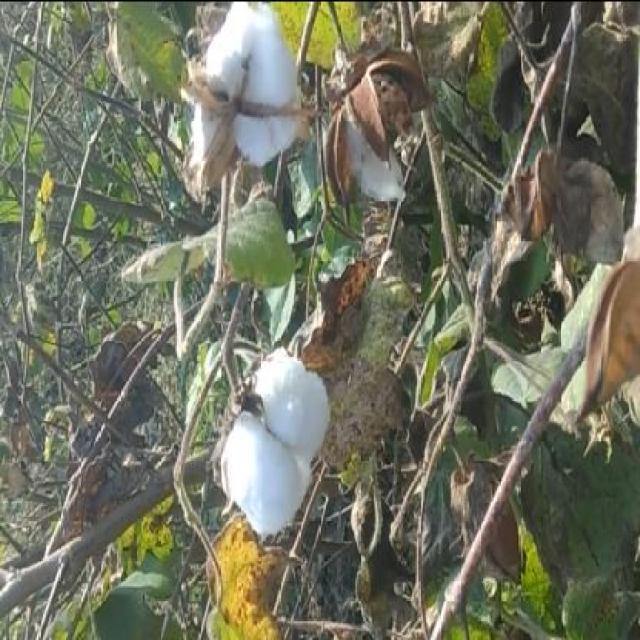cotton_ready: (170, 1, 330, 236), (192, 337, 340, 571)
